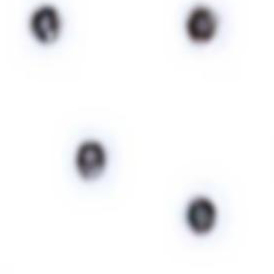cancer: (13, 1, 79, 58), (61, 123, 120, 186), (173, 2, 234, 57), (177, 186, 231, 245)
